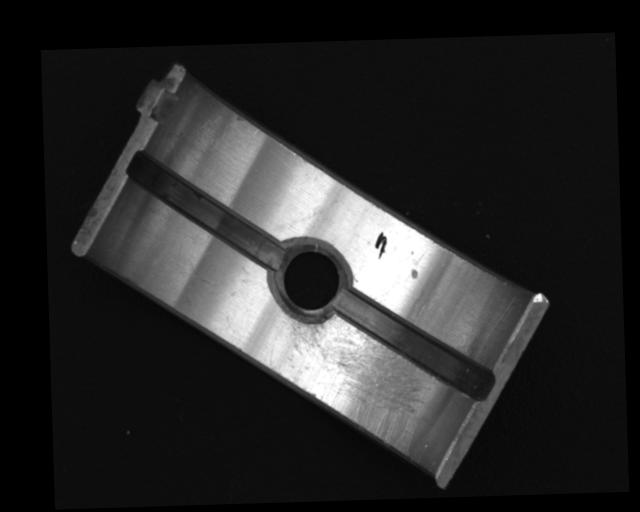blot: (373, 231, 388, 259)
bruise: (410, 268, 418, 280)
gap: (125, 147, 289, 273), (339, 288, 497, 404)
hole: (266, 240, 350, 320)
scratch: (285, 310, 434, 459)
